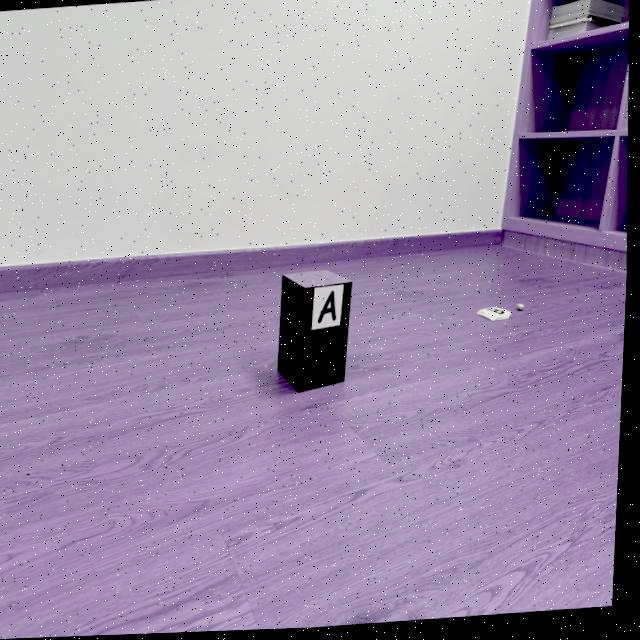A: (320, 292, 339, 325)
